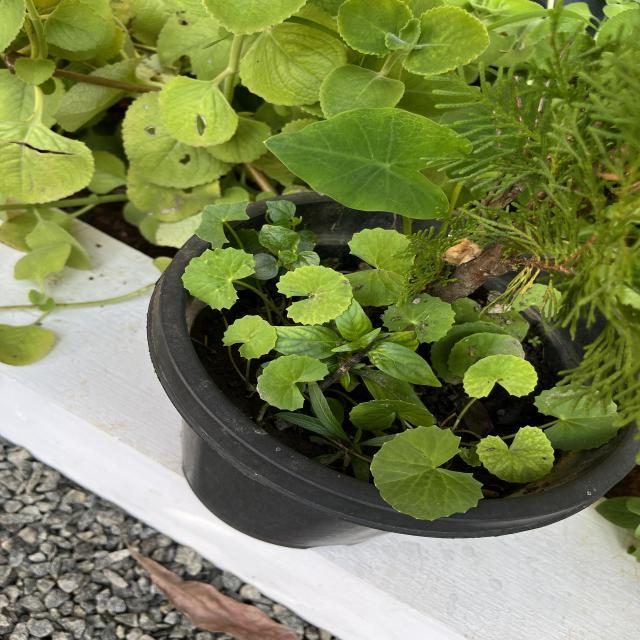Centella asiatica: (368, 422, 486, 522), (274, 264, 356, 328), (180, 246, 258, 313), (474, 423, 558, 485), (254, 352, 332, 413), (460, 352, 540, 400), (218, 313, 280, 362)
